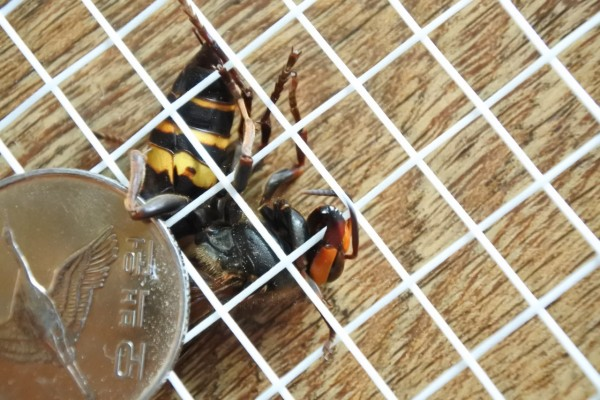asian_giant_hornet: (117, 36, 257, 225), (170, 186, 367, 301)
